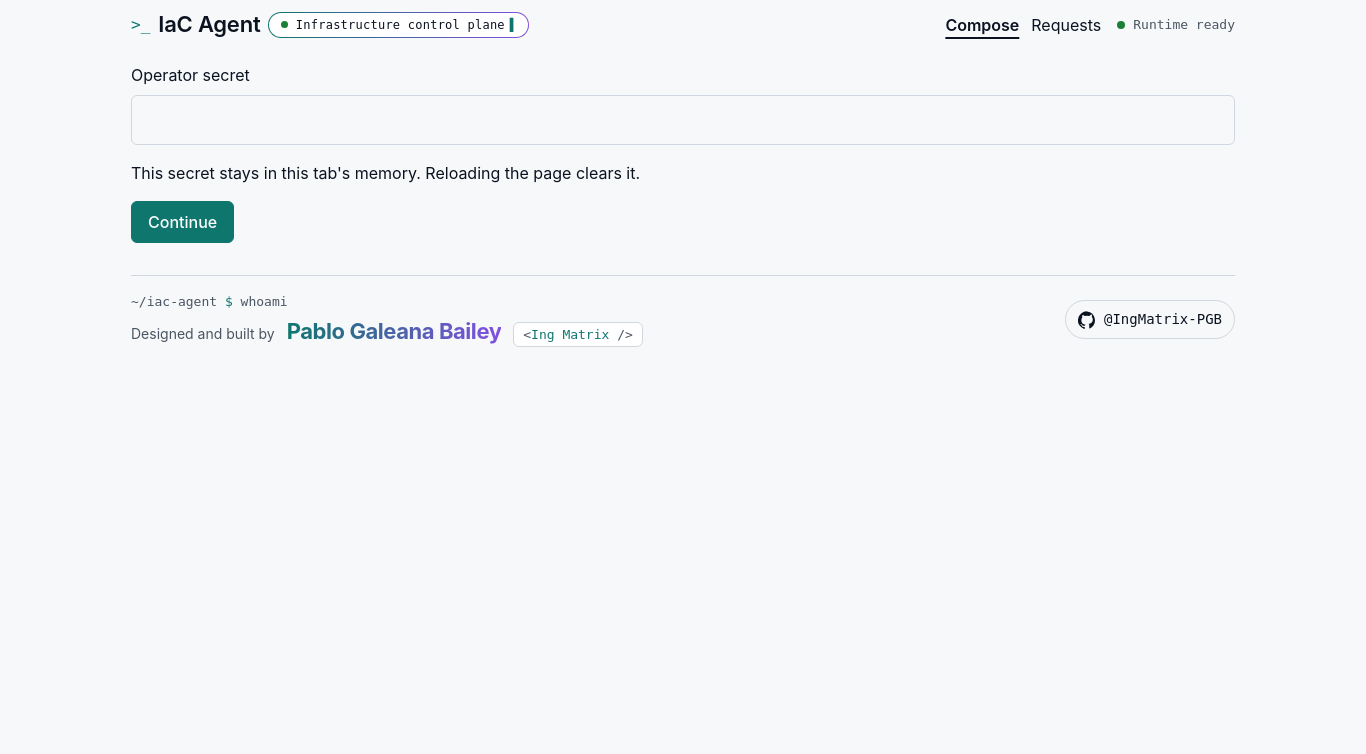
Test: operator shell › shows a stable validation message and keeps the draft
Step 1. Type "test-operator-secret" into the password field labelled "Operator secret" → (683,120), box left=131, top=94, right=1235, bottom=144
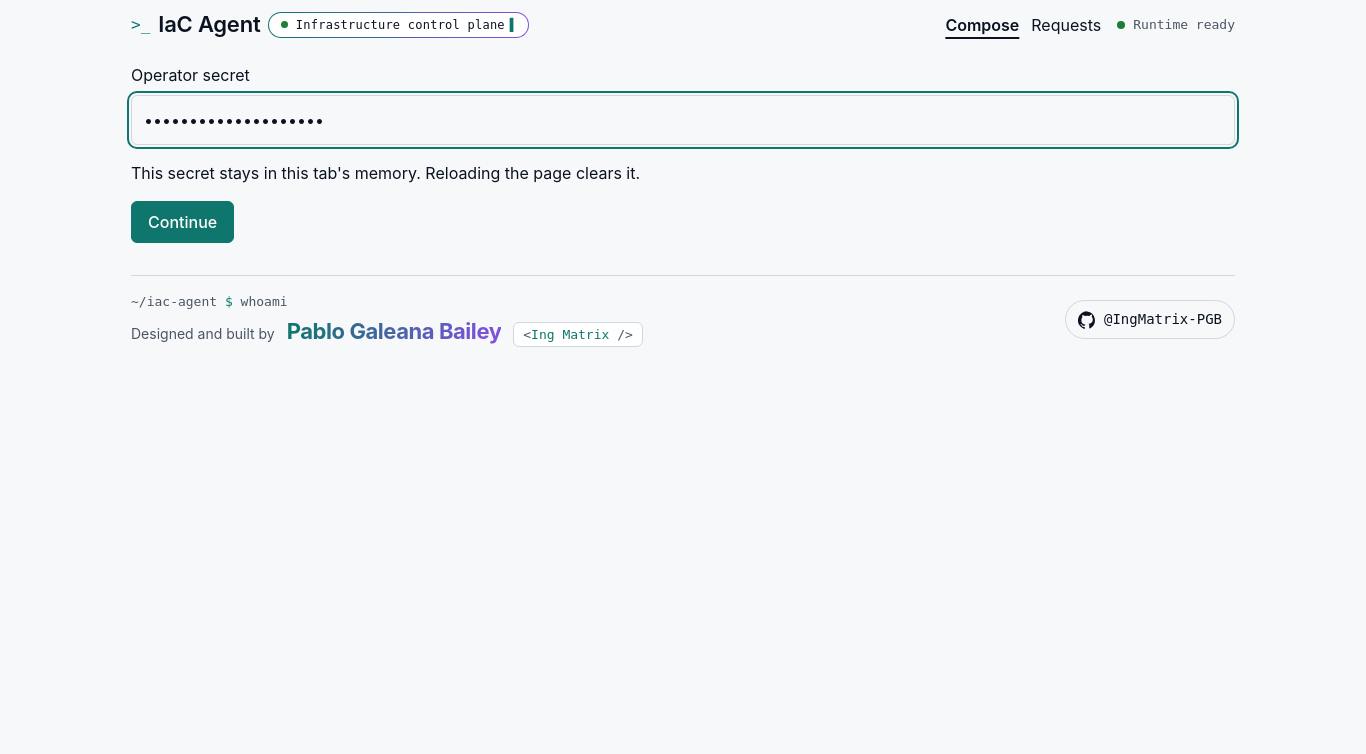
Step 2. Click the button "Continue" → (183,222), box left=131, top=200, right=234, bottom=242
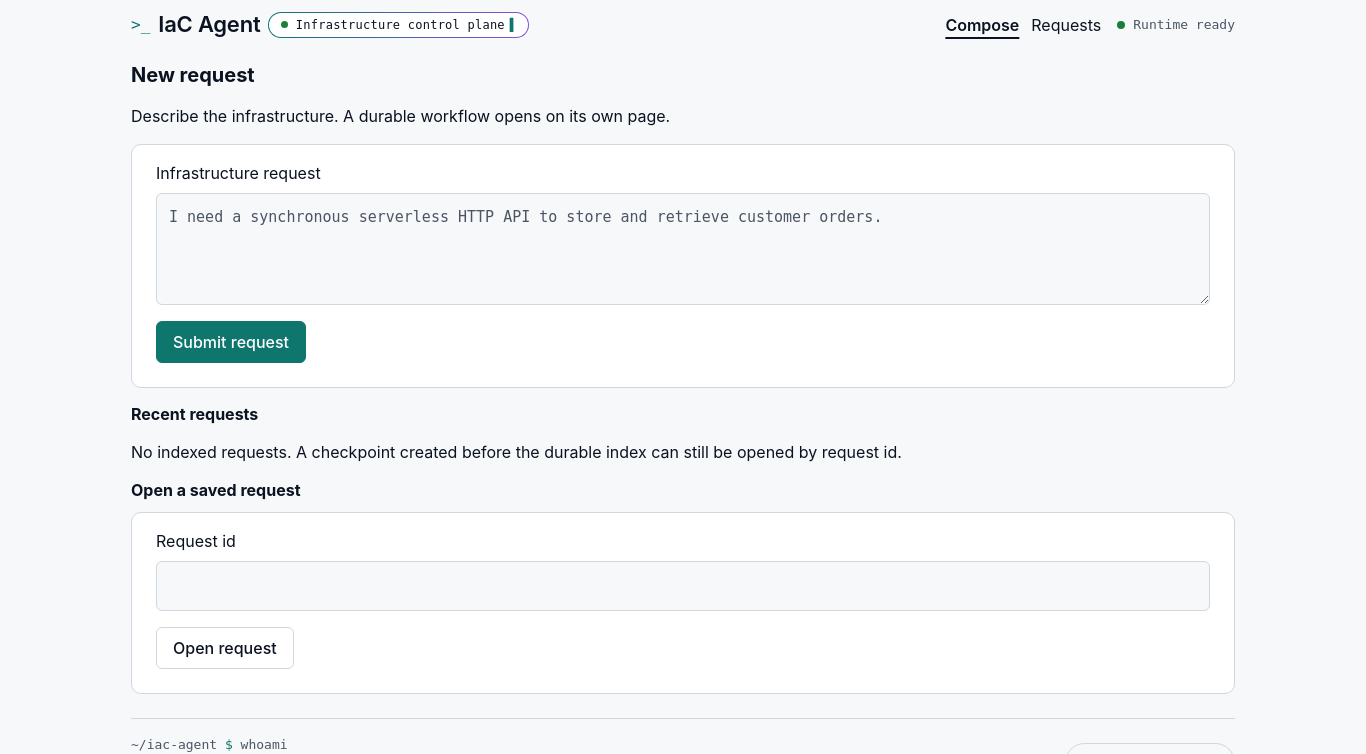
Step 3. Type "build a queue" into the text box labelled "Infrastructure request" → (683,248), box left=156, top=192, right=1210, bottom=304
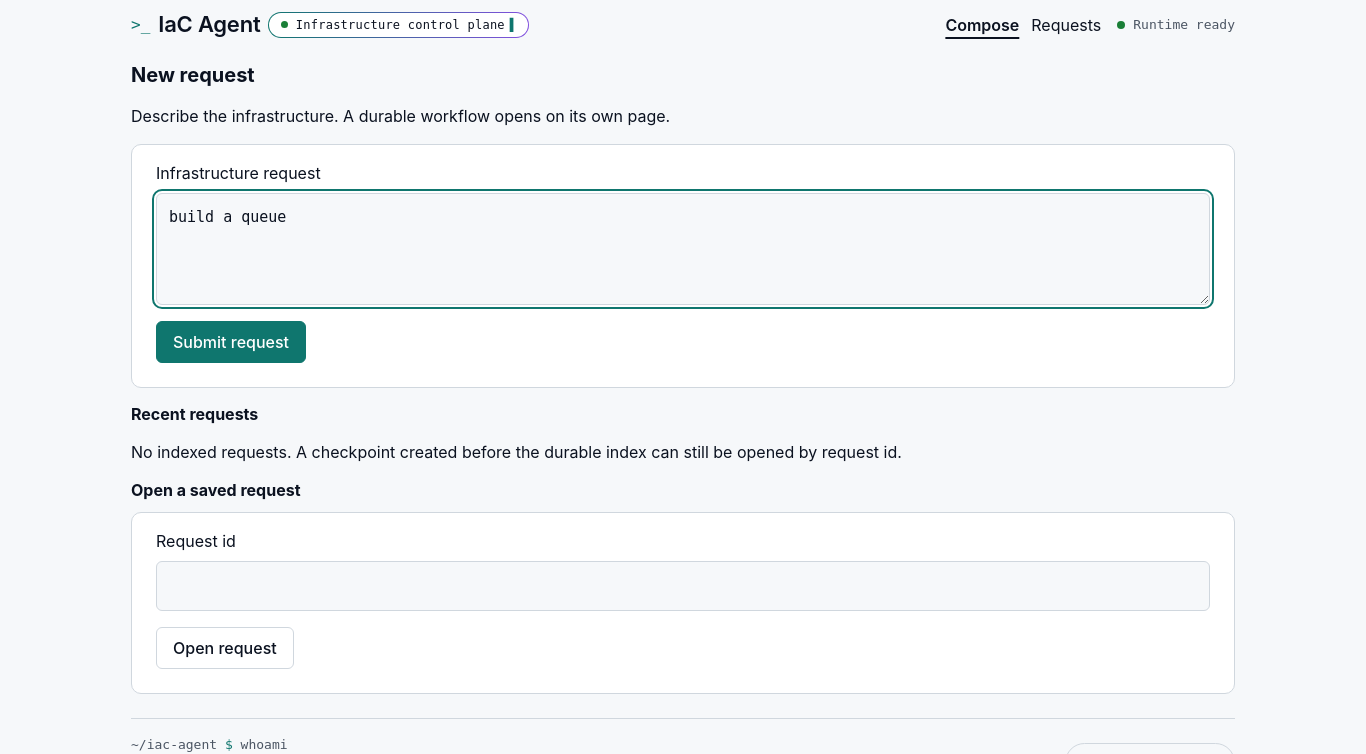
Step 4. Click the button "Submit request" → (231,342), box left=156, top=320, right=306, bottom=362
(page scrolled)
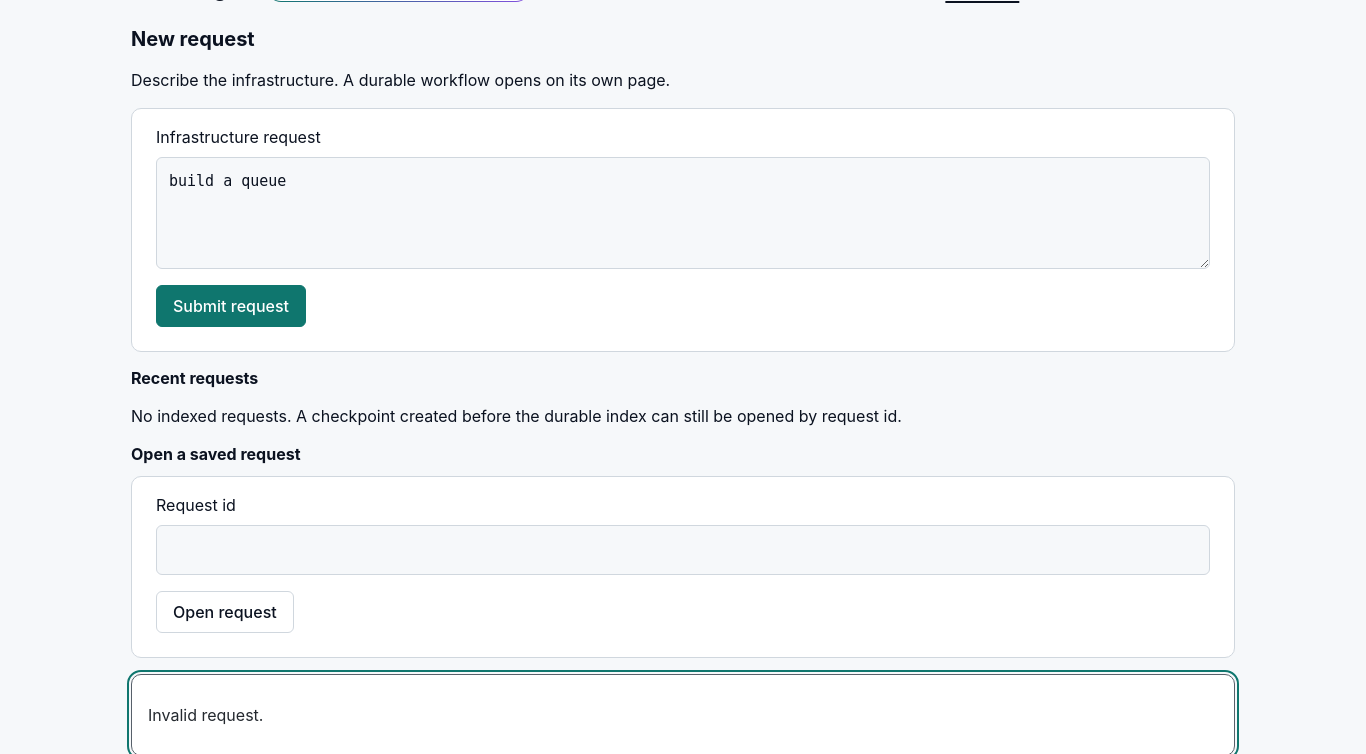
Now the message reads "Invalid request.", box left=148, top=704, right=263, bottom=724
